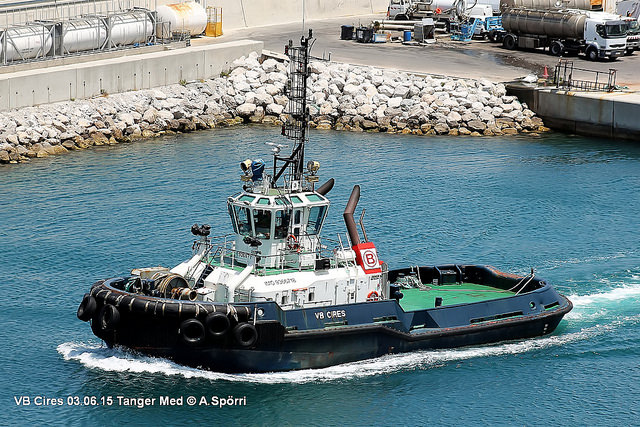tug_boat: (69, 68, 577, 377)
